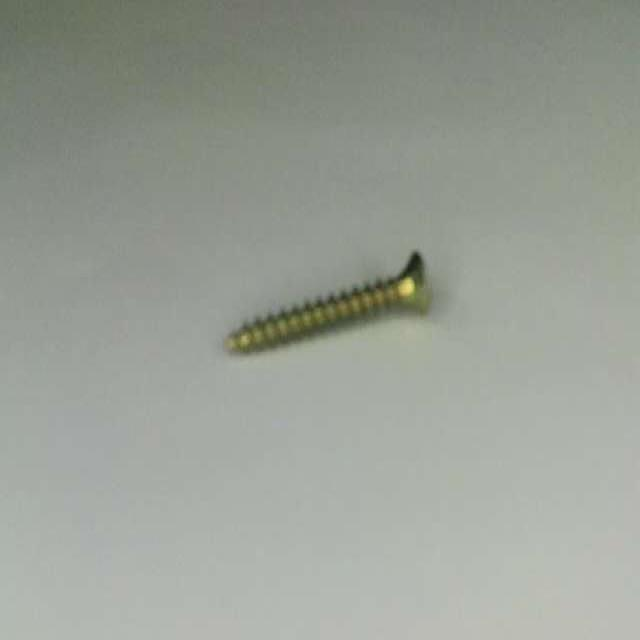Parafuso: (227, 252, 429, 351)
